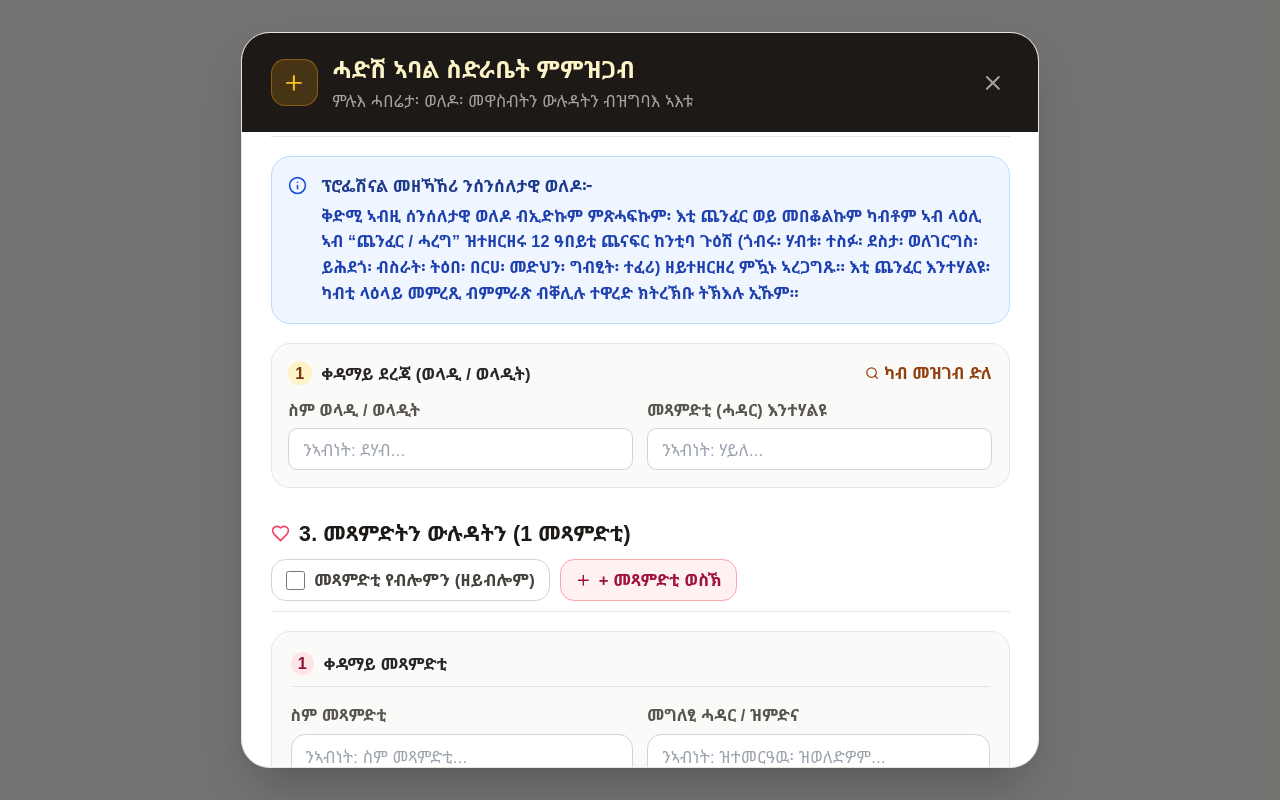
Test: UI Navigation, Tree Interaction, and Safety Verification › 13. AddPersonGuidedModal: automatically retrieves and pre-fills recorded spouse for ancestors across generations and supports +4 children
(page scrolled)
# Enter parent name "ሓሊቦ" into generation 1 input
Type "ሓሊቦ" into the field with placeholder "ንኣብነት: ደሃብ...". click: (460, 449)
box: top-left (288, 428), bottom-right (633, 470)
(page scrolled)
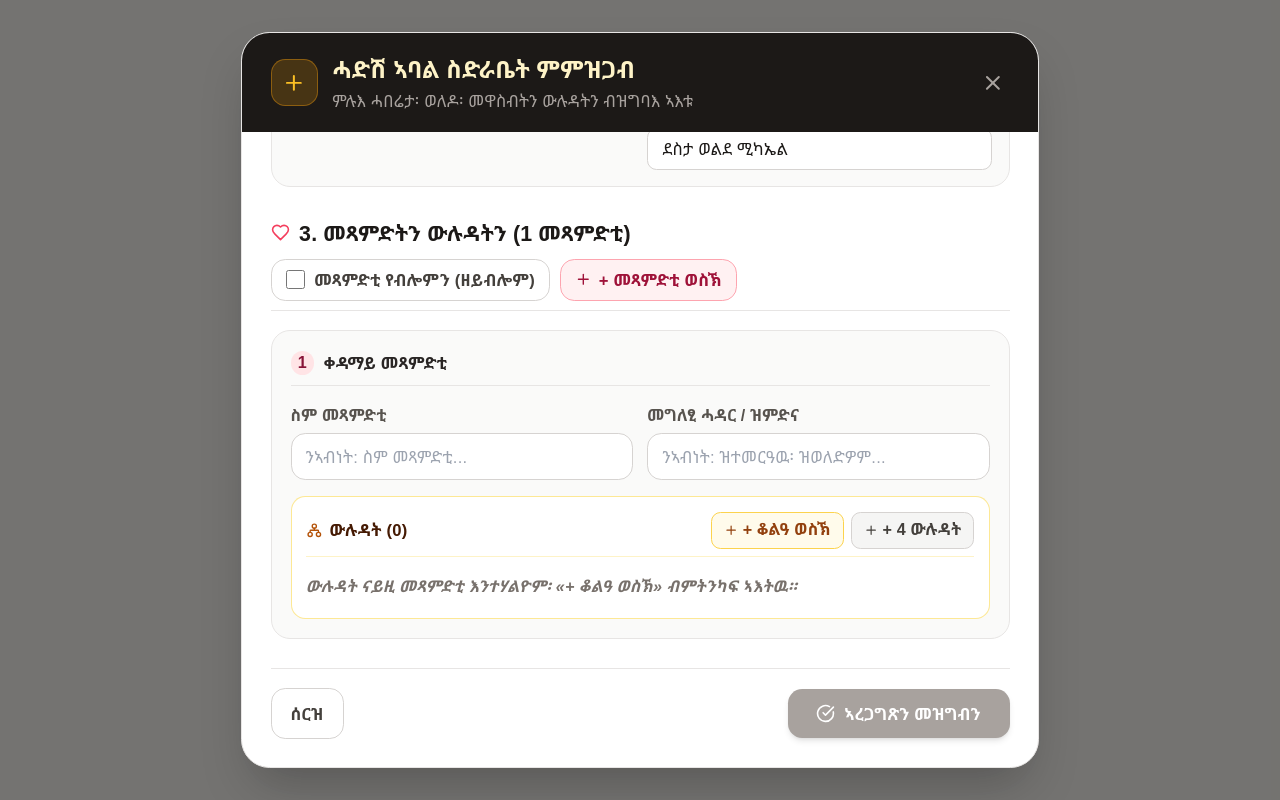
Now the field with placeholder "ንኣብነት: ሃይለ..." holds "ደስታ ወልደ ሚካኤል", box top-left (647, 132), bottom-right (992, 170)
Now the button "+ 4 ውሉዳት" is shown
Click the button "+ 4 ውሉዳት". click: click(912, 530)
box: top-left (851, 512), bottom-right (974, 549)
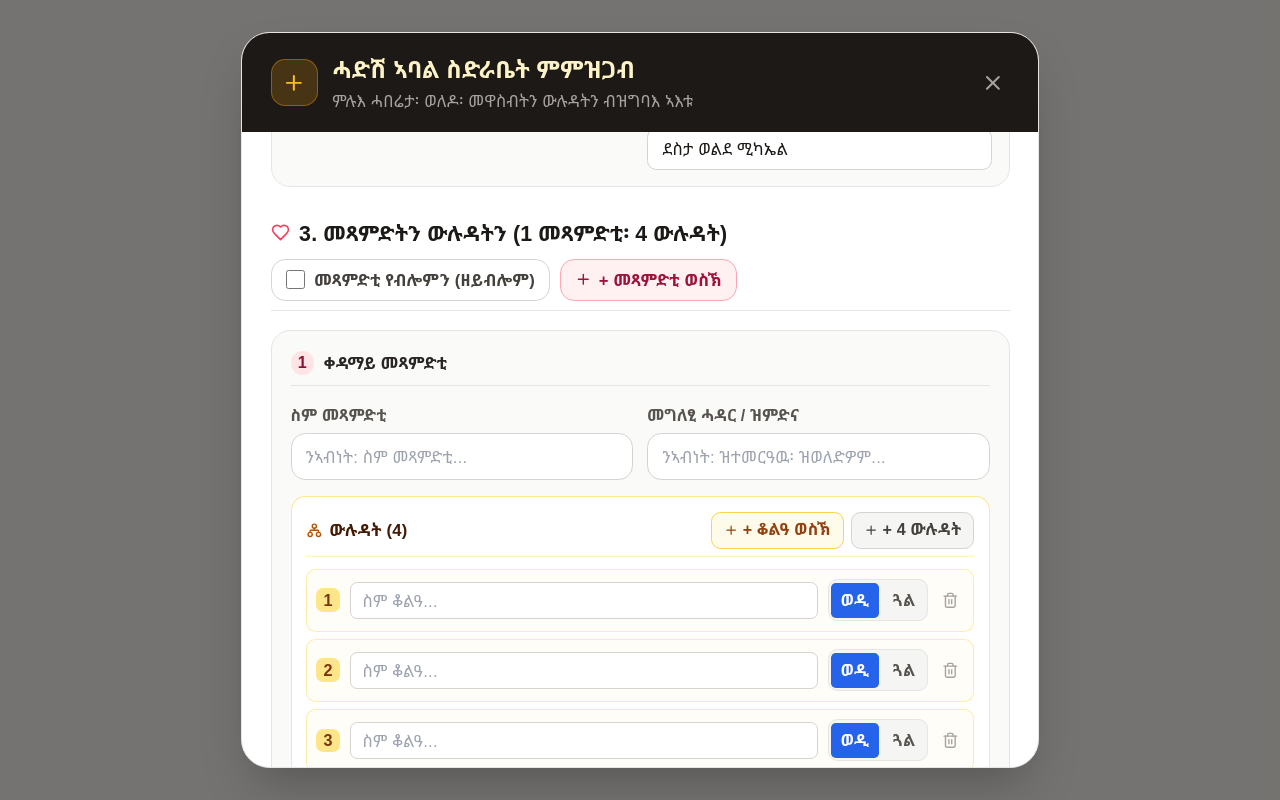
Now the number of fields with placeholder "ስም ቆልዓ..." is 4
